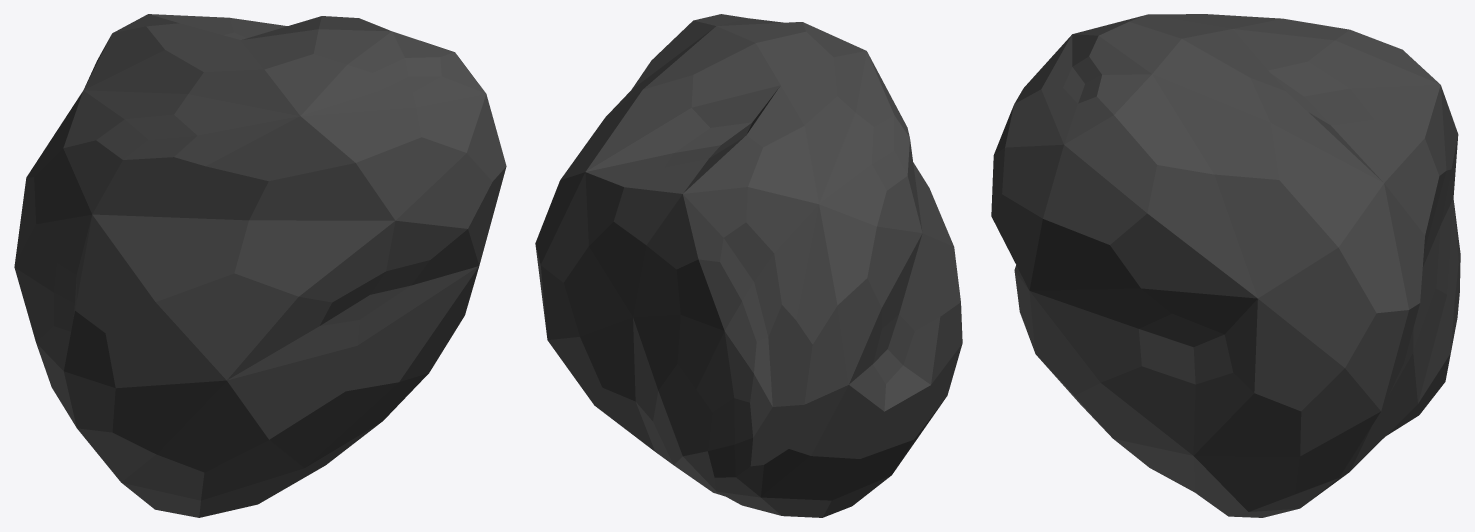
File: Asteroid.008.fbx
3 views of the same model, side by side, from view 1: azimuth 30°, elevation 25°; view 2: azimuth 150°, elevation 25°; view 3: azimuth 270°, elevation 25° (orthographic). The views are drawn at different scales.
Parts seen in each view (by area): view 1: Asteroid.008; view 2: Asteroid.008; view 3: Asteroid.008.
Part boxes in pixels (x1,y1,x2,y2): Asteroid.008: (14,14,506,517); Asteroid.008: (535,14,962,517); Asteroid.008: (991,14,1460,517).
Size of the model in its own units: 10.66 by 12.41 by 10.84.
